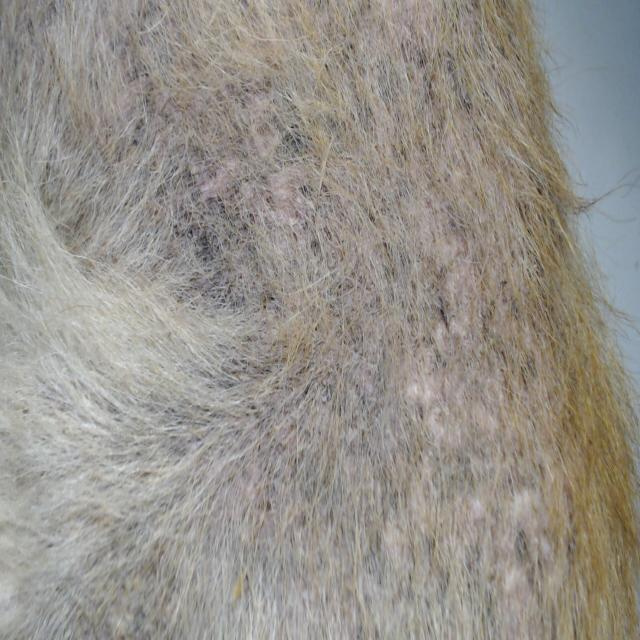demodicosis: (231, 97, 566, 549)
